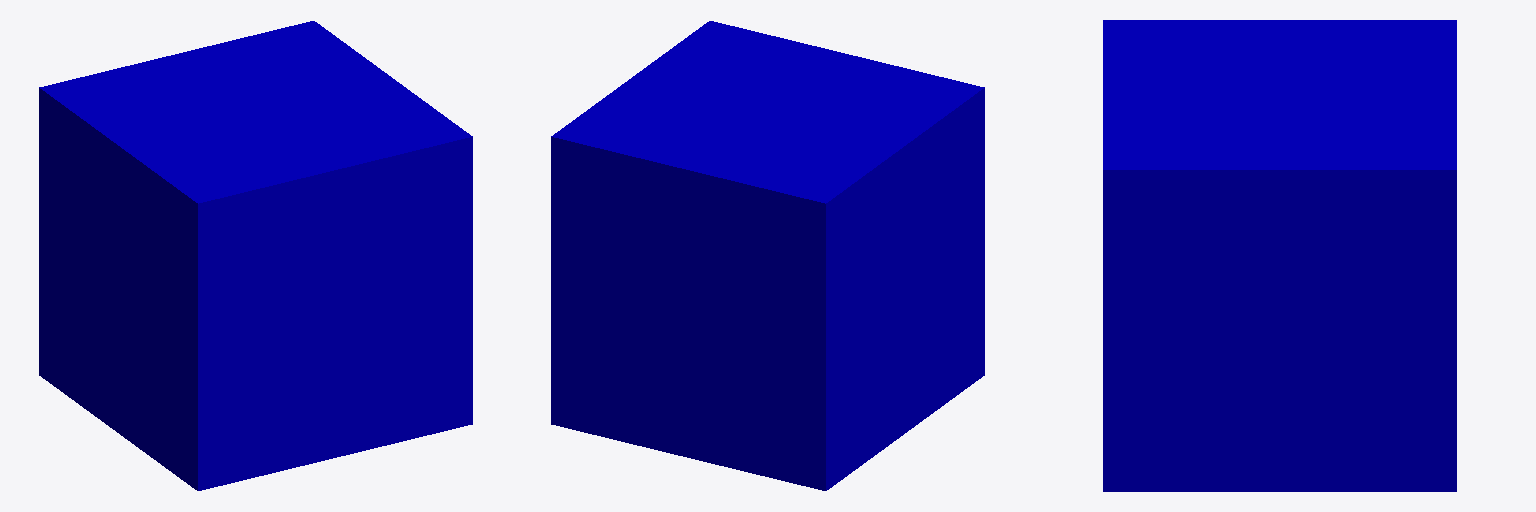
robot.urdf — cubo:
<robot name="cubo" version="1.0">
  <link name="Cube_link">
    <collision name="Cube_collision">
      <origin rpy="0.00000 0.00000 0.00000" xyz="0.00000 0.00000 0.00000"/>
      <geometry>
        <mesh filename="../meshes/dae/Cube.dae" scale="0.25000 0.25000 0.25000"/>
      </geometry>
    </collision>
    <inertial>
      <inertia ixx="0.16667" ixy="0.00000" ixz="0.00000" iyy="0.16667" iyz="0.00000" izz="0.16667"/>
      <origin rpy="0.00000 0.00000 0.00000" xyz="0.00000 0.00000 0.00000"/>
      <mass value="4.00000"/>
    </inertial>
    <visual name="Cube">
      <material name="Material"/>
      <origin rpy="0.00000 0.00000 0.00000" xyz="0.00000 0.00000 0.00000"/>
      <geometry>
        <mesh filename="../meshes/dae/Cube.dae" scale="0.25000 0.25000 0.25000"/>
      </geometry>
    </visual>
  </link>
  <material name="Material">
    <color rgba="0.01961 0.00000 0.80000 1.00000"/>
  </material>
</robot>

--- What the picture shows (computed from the rendered views, not written in the file) ---
Views: 3 orthographic renders of the robot side by side, from view 1: azimuth 30°, elevation 25°; view 2: azimuth 150°, elevation 25°; view 3: azimuth 270°, elevation 25°.
Model cubo with 1 links and 0 joints (none), rooted at Cube_link, posed every joint at zero.
Visible links, largest first — view 1: Cube_link; view 2: Cube_link; view 3: Cube_link.
Boxes of the visible links, x1=… form: Cube_link: x1=39, y1=21, x2=472, y2=490; Cube_link: x1=551, y1=21, x2=984, y2=490; Cube_link: x1=1103, y1=20, x2=1456, y2=491.
Size in the robot's own frame: 0.5 by 0.5 by 0.5 metres.
1 mesh visuals loaded from 1 distinct referenced files (1 Collada DAE).
